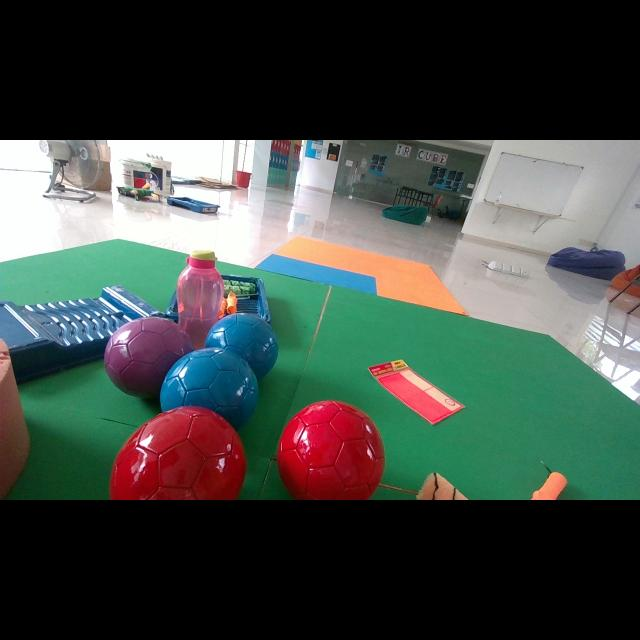B: (160, 348, 258, 429), (205, 314, 279, 379)
P: (104, 316, 194, 399)
R: (110, 406, 246, 499), (278, 401, 385, 500)
